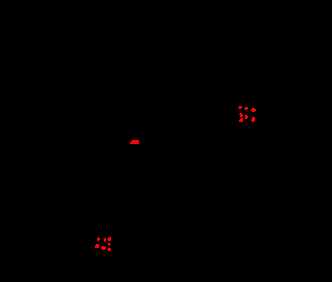Target: (130, 140, 139, 144), (251, 108, 256, 112), (251, 117, 255, 122), (101, 246, 106, 250), (239, 113, 243, 117), (239, 118, 243, 122), (107, 237, 111, 241), (95, 244, 99, 248), (238, 106, 242, 109), (244, 107, 248, 110), (245, 115, 248, 119), (97, 237, 100, 241), (107, 248, 111, 251), (108, 243, 111, 246), (104, 238, 106, 242)
